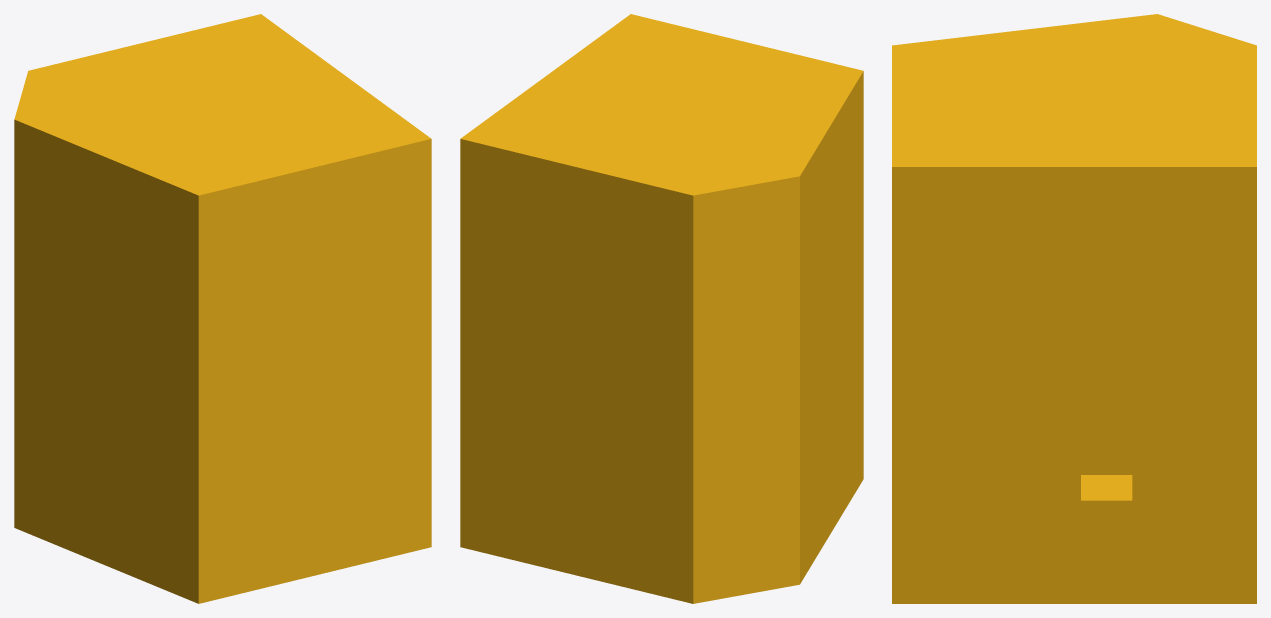
File: DoorLatch.fbx
3 views of the same model, side by side, from view 1: azimuth 30°, elevation 25°; view 2: azimuth 150°, elevation 25°; view 3: azimuth 270°, elevation 25° (orthographic). The views are drawn at different scales.
Visible parts, largest first — view 1: DoorLatch; view 2: DoorLatch; view 3: DoorLatch.
Part boxes in pixels (x1=…): DoorLatch: x1=14, y1=14, x2=431, y2=603; DoorLatch: x1=460, y1=14, x2=863, y2=603; DoorLatch: x1=892, y1=14, x2=1256, y2=603.
Size of the model in its own units: 58.64 by 78.05 by 59.07.
